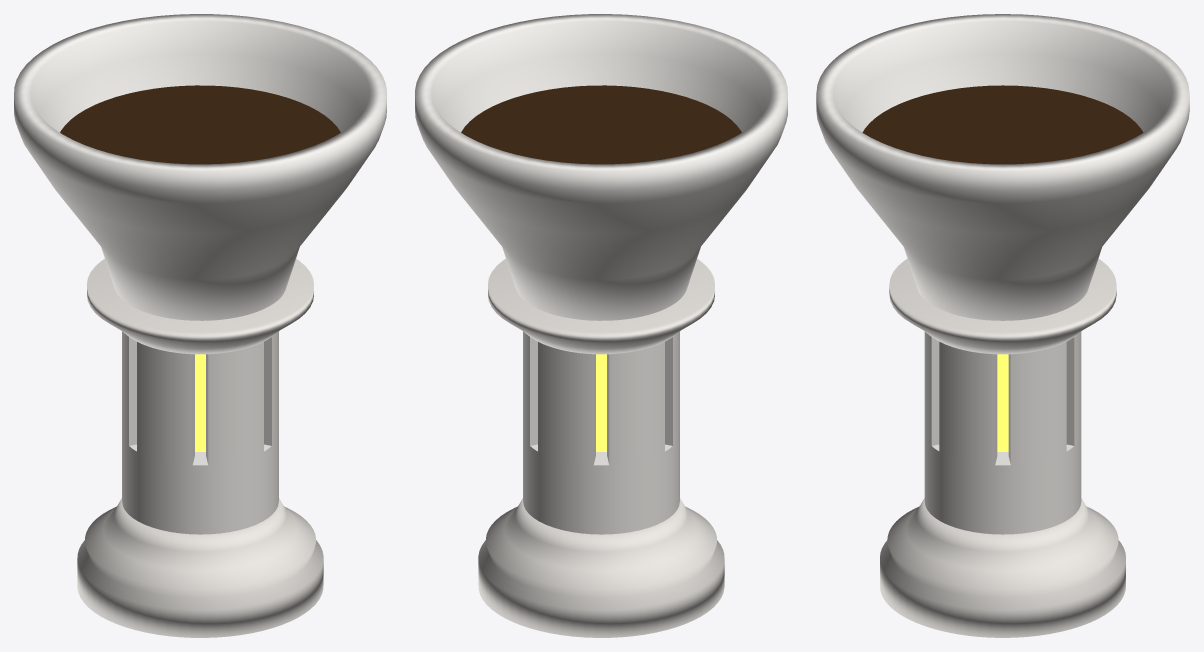
The picture shows the model from 3 angles, left to right: view 1: azimuth 30°, elevation 25°; view 2: azimuth 150°, elevation 25°; view 3: azimuth 270°, elevation 25°; orthographic projection.
Parts seen in each view (by area): view 1: coupe, base, terre, fut, chapiteau, fut-montant-3, fut-montant-4, fut-montant-2, fut-montant-5, lumiere-foyer; view 2: coupe, base, terre, fut, chapiteau, fut-montant-1, fut-montant-2, fut-montant-0, fut-montant-3, lumiere-foyer; view 3: coupe, base, terre, fut, chapiteau, fut-montant-0, fut-montant-5, fut-montant-1, fut-montant-4, lumiere-foyer.
Part boxes in pixels (left/top/right/bottom): coupe: left=14, top=14, right=386, bottom=320; base: left=77, top=498, right=323, bottom=637; terre: left=60, top=85, right=340, bottom=164; fut: left=122, top=433, right=278, bottom=534; chapiteau: left=87, top=259, right=313, bottom=354; fut-montant-3: left=137, top=342, right=194, bottom=465; fut-montant-4: left=206, top=342, right=263, bottom=465; fut-montant-2: left=122, top=331, right=136, bottom=445; fut-montant-5: left=264, top=331, right=278, bottom=445; lumiere-foyer: left=195, top=354, right=205, bottom=451; coupe: left=415, top=14, right=787, bottom=320; base: left=478, top=498, right=724, bottom=637; terre: left=461, top=85, right=741, bottom=164; fut: left=523, top=433, right=679, bottom=534; chapiteau: left=488, top=259, right=714, bottom=354; fut-montant-1: left=538, top=342, right=595, bottom=465; fut-montant-2: left=607, top=342, right=664, bottom=465; fut-montant-0: left=523, top=331, right=537, bottom=445; fut-montant-3: left=665, top=331, right=679, bottom=445; lumiere-foyer: left=596, top=354, right=606, bottom=451; coupe: left=816, top=14, right=1189, bottom=320; base: left=880, top=498, right=1125, bottom=637; terre: left=862, top=85, right=1143, bottom=164; fut: left=924, top=435, right=1081, bottom=534; chapiteau: left=889, top=258, right=1116, bottom=354; fut-montant-0: left=1008, top=342, right=1066, bottom=465; fut-montant-5: left=939, top=342, right=997, bottom=465; fut-montant-1: left=1066, top=332, right=1081, bottom=445; fut-montant-4: left=924, top=332, right=939, bottom=445; lumiere-foyer: left=997, top=354, right=1008, bottom=451.
Size of the model in its own units: 0.48 by 0.7 by 0.48.
